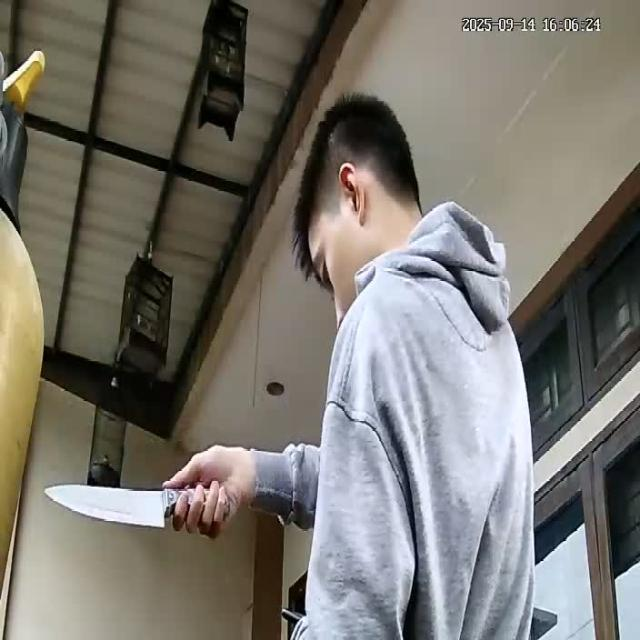senjata_tajam: (42, 482, 172, 532)
